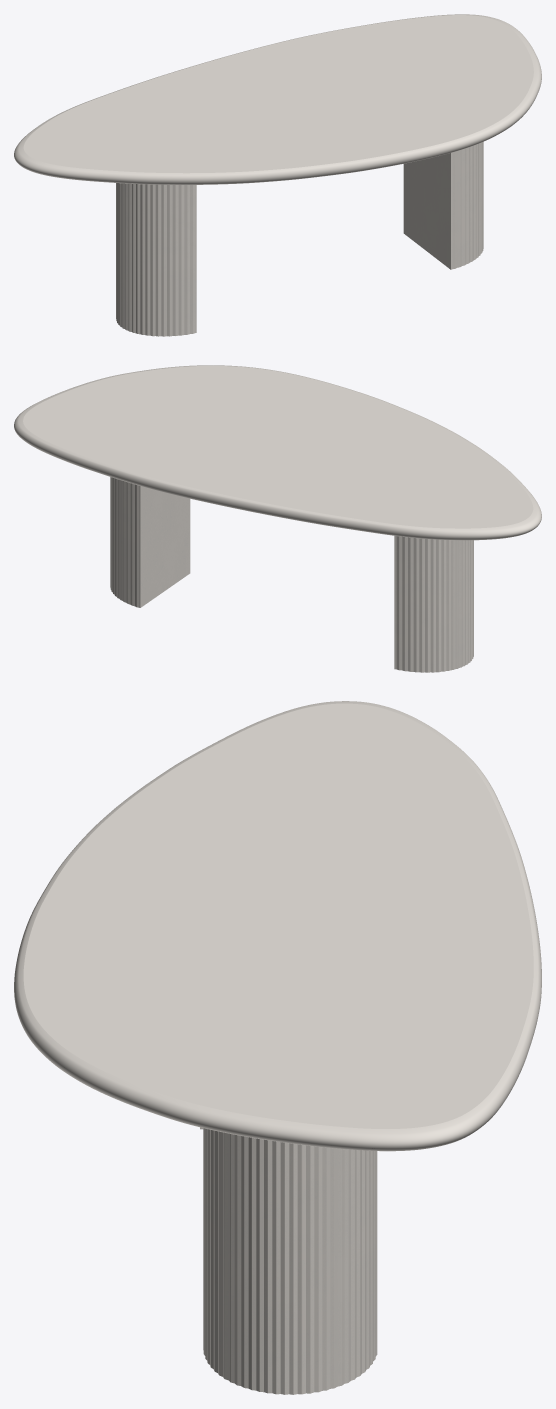
The model's file is pearlwhite_pebbletop_round_flute.glb.
3 views of the same model, one above another, from view 1: azimuth 30°, elevation 25°; view 2: azimuth 150°, elevation 25°; view 3: azimuth 270°, elevation 25° (orthographic). The views are drawn at different scales.
Parts seen in each view (by area): view 1: round_pebbletop, flute; view 2: round_pebbletop, flute; view 3: round_pebbletop, flute.
Part boxes in pixels (box(x1,y1,x2,y2)): round_pebbletop: box(14, 14, 541, 184); flute: box(116, 142, 483, 336); round_pebbletop: box(14, 365, 541, 540); flute: box(110, 477, 473, 672); round_pebbletop: box(14, 701, 541, 1151); flute: box(200, 1127, 377, 1394).
Size of the model in its own units: 7.5 by 2.51 by 3.8.
Materials: 1 (1 with a texture image).
